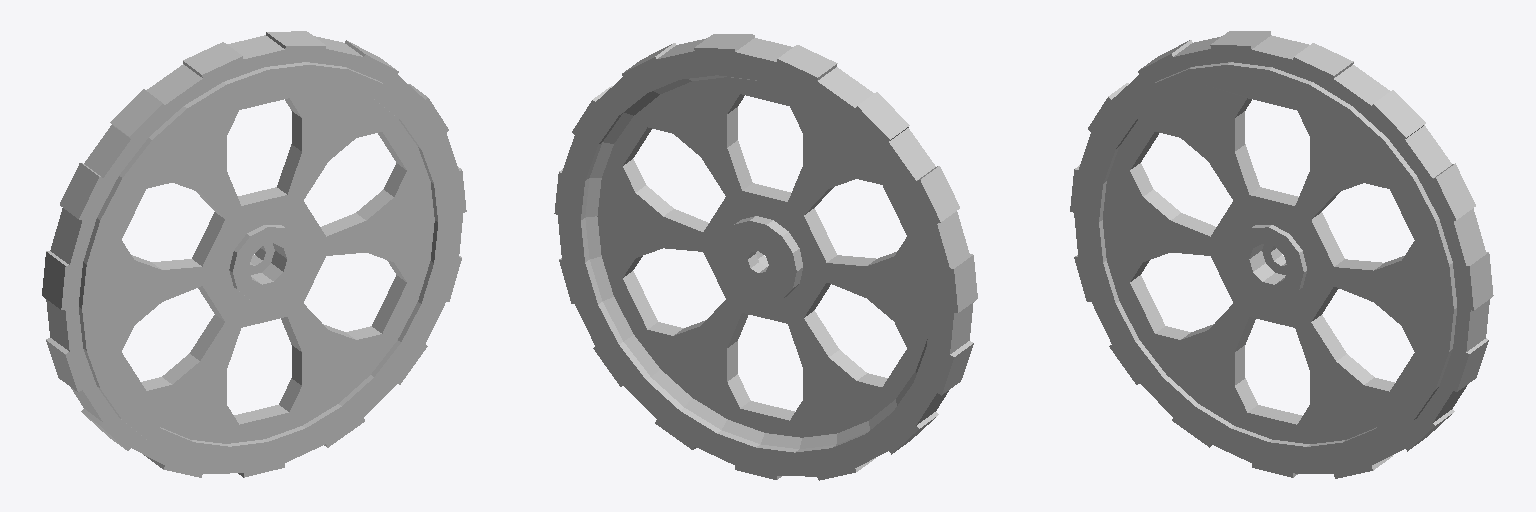
The model's file is ridgewheel.obj.
The picture shows the model from 3 angles: view 1: azimuth 30°, elevation 25°; view 2: azimuth 150°, elevation 25°; view 3: azimuth 330°, elevation 25°; orthographic projection.
Visible parts, largest first — view 1: EGR101_wheel; view 2: EGR101_wheel; view 3: EGR101_wheel.
Boxes of the visible parts, <box> form: EGR101_wheel: <box>42,31,466,477</box>; EGR101_wheel: <box>554,34,977,480</box>; EGR101_wheel: <box>1070,31,1493,478</box>.
Size of the model in its own units: 66.5 by 66.2 by 6.81.